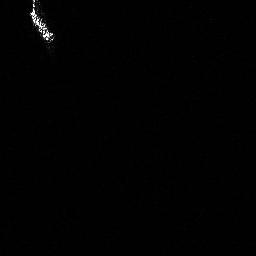ship: (26, 1, 58, 45)
